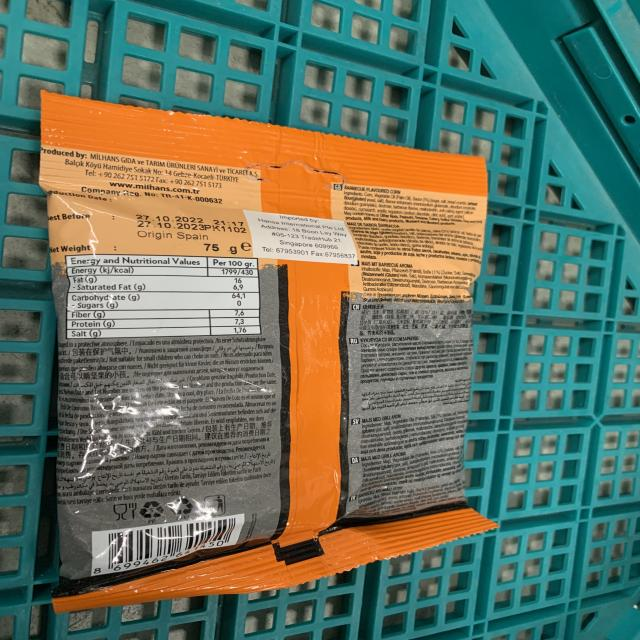object_name: (46, 101, 473, 581)
